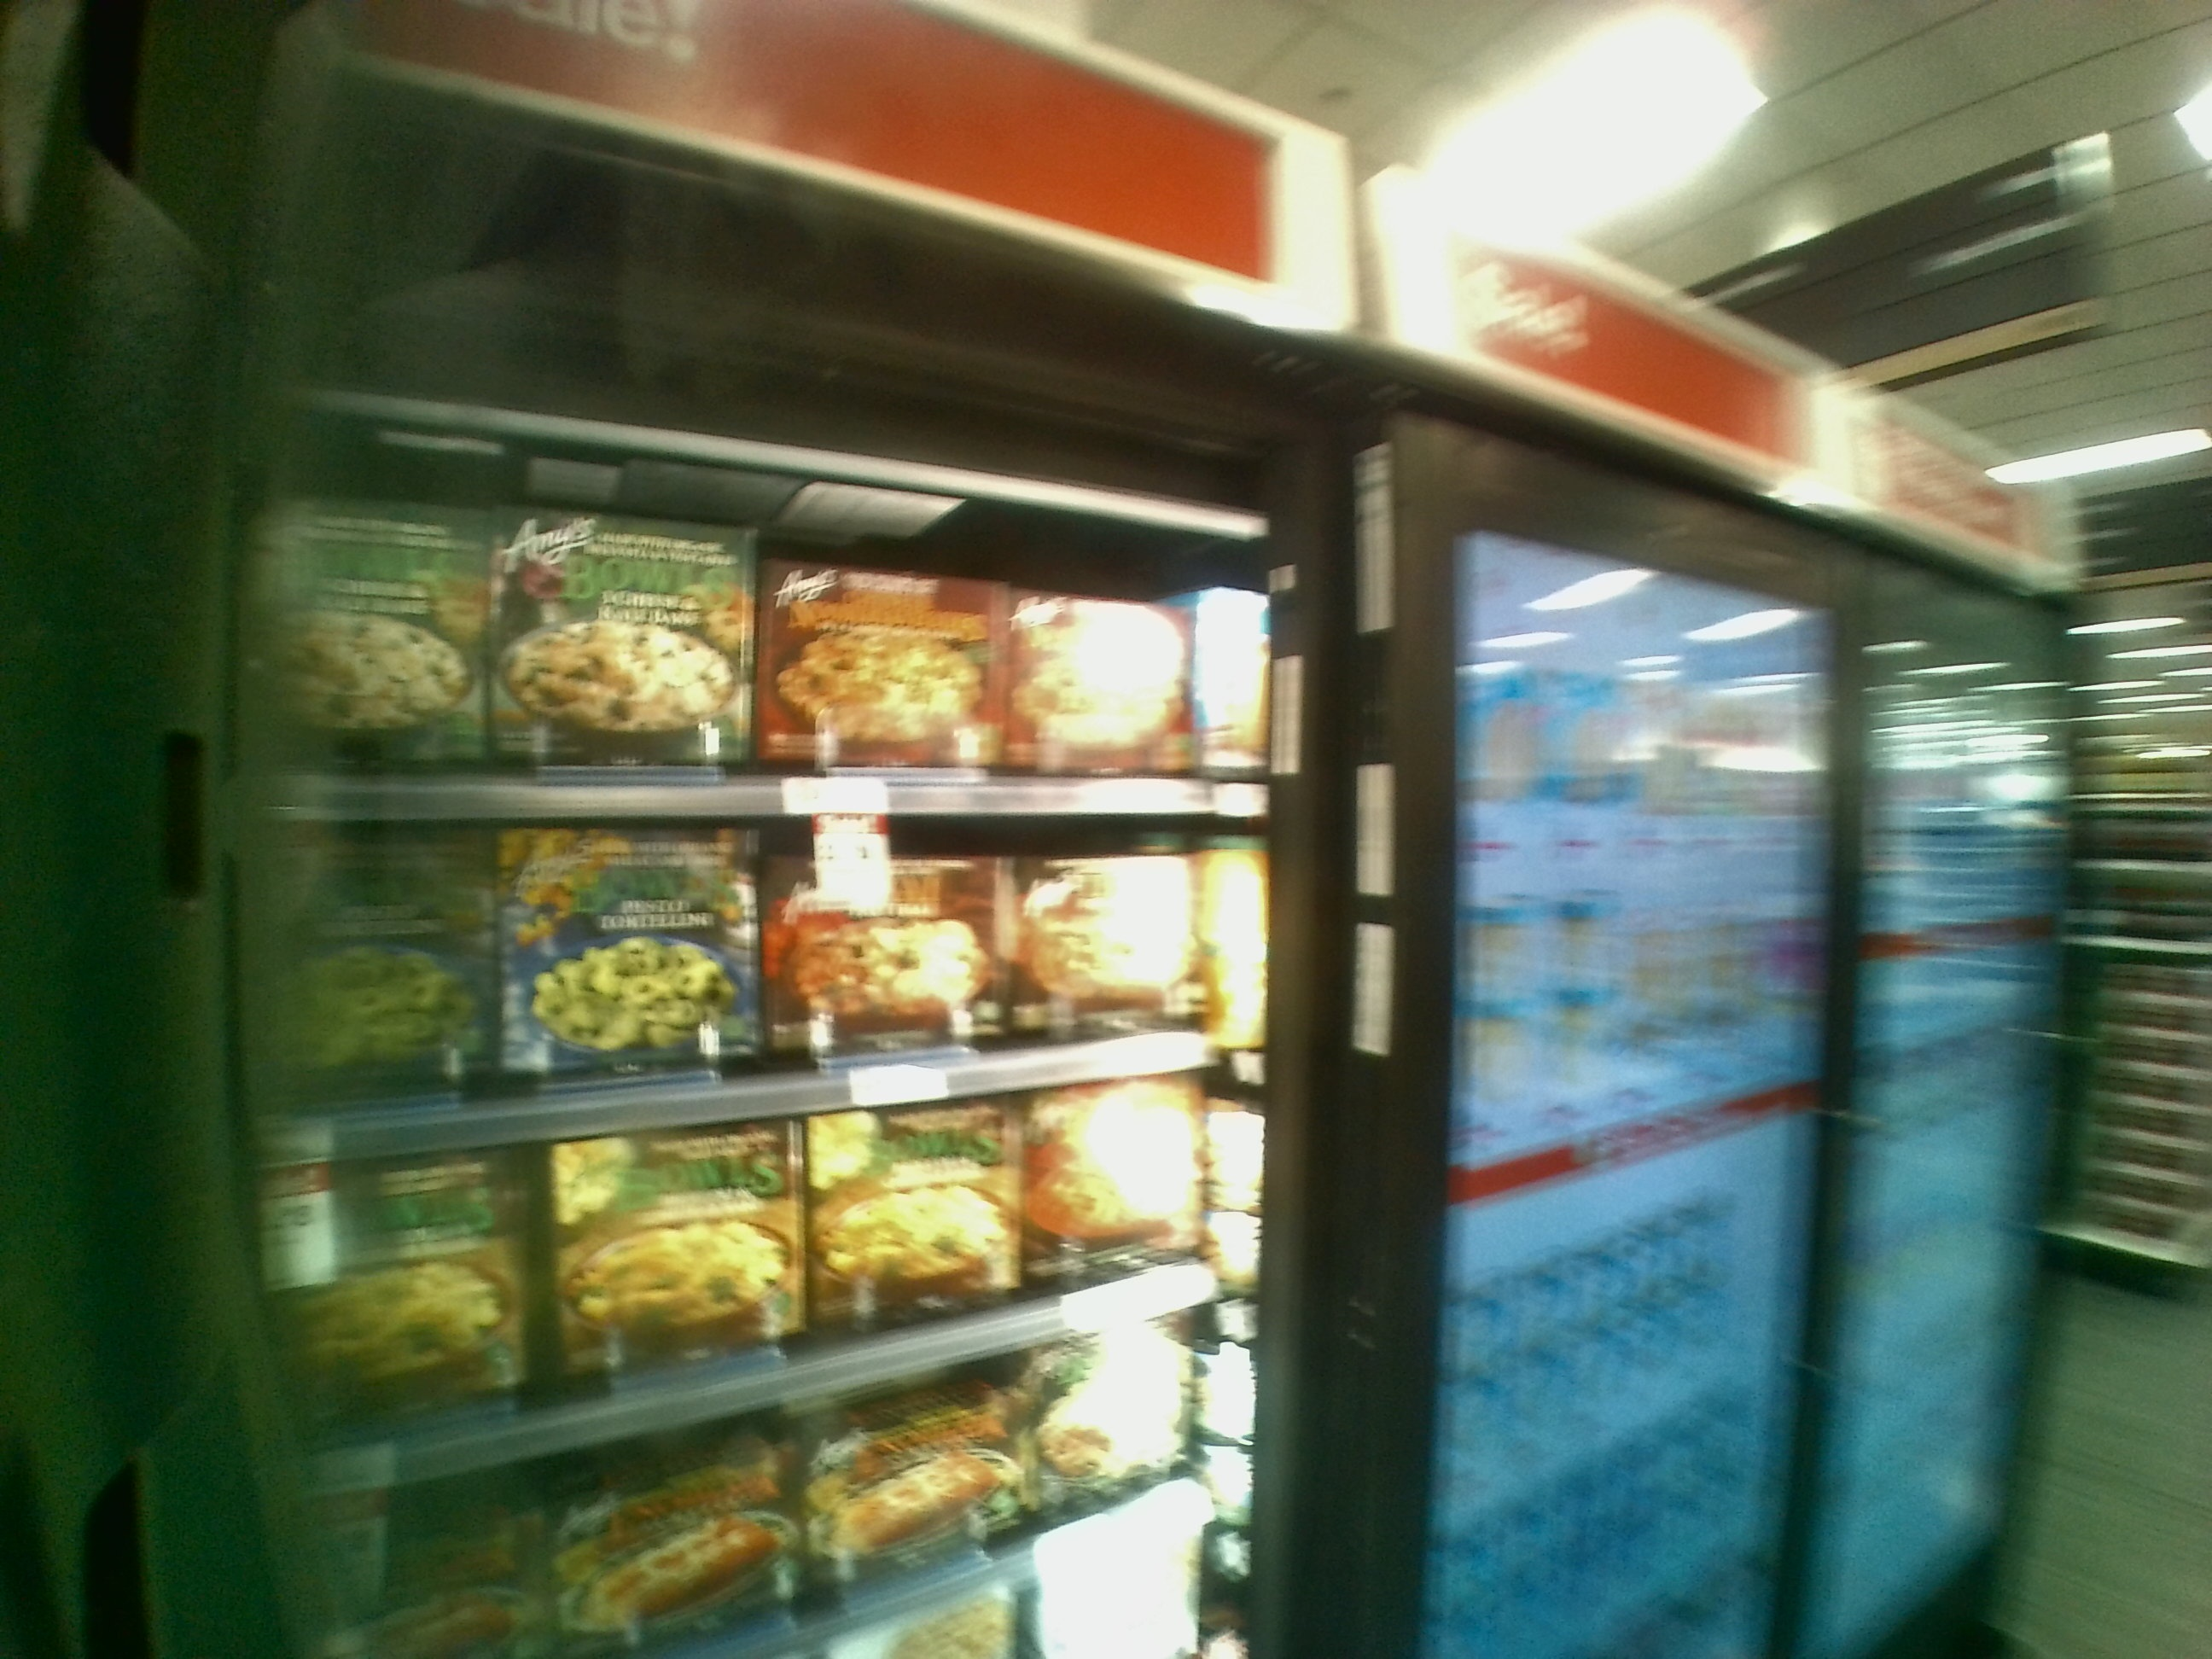shelf: (233, 498, 1273, 824), (266, 821, 1271, 1124)
